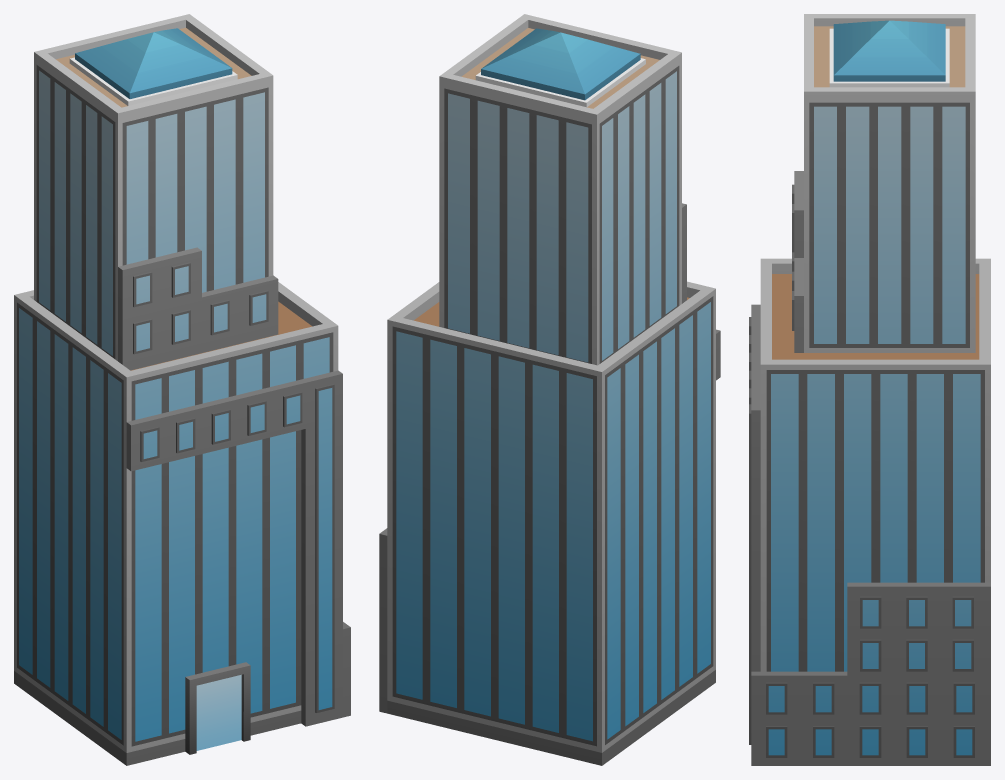
Rendered from building 2.fbx.
The picture shows the model from 3 angles, left to right: view 1: azimuth 30°, elevation 25°; view 2: azimuth 150°, elevation 25°; view 3: azimuth 270°, elevation 25°; orthographic projection. The views are drawn at different scales.
Visible parts, largest first — view 1: building 2; view 2: building 2; view 3: building 2.
Part boxes in pixels (x1=…): building 2: x1=14, y1=14, x2=350, y2=765; building 2: x1=379, y1=14, x2=720, y2=765; building 2: x1=749, y1=14, x2=990, y2=765.
Bounding box in the file's own units: 970 × 2783 × 896.
